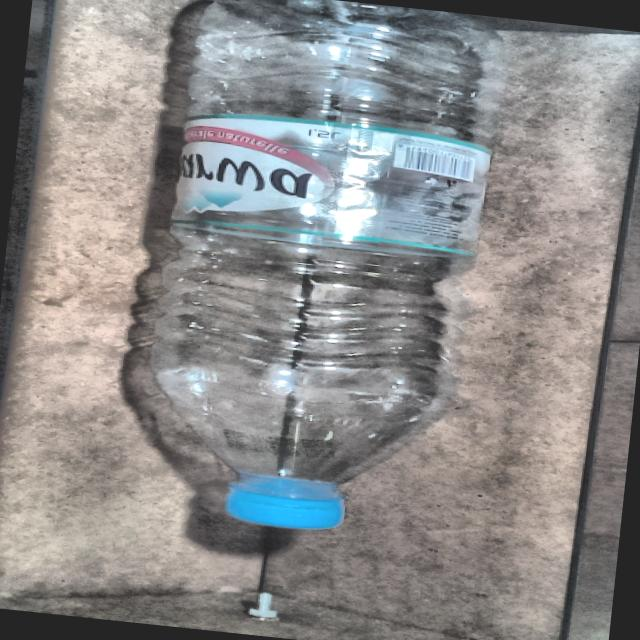plastic bottle: (150, 0, 504, 528)
